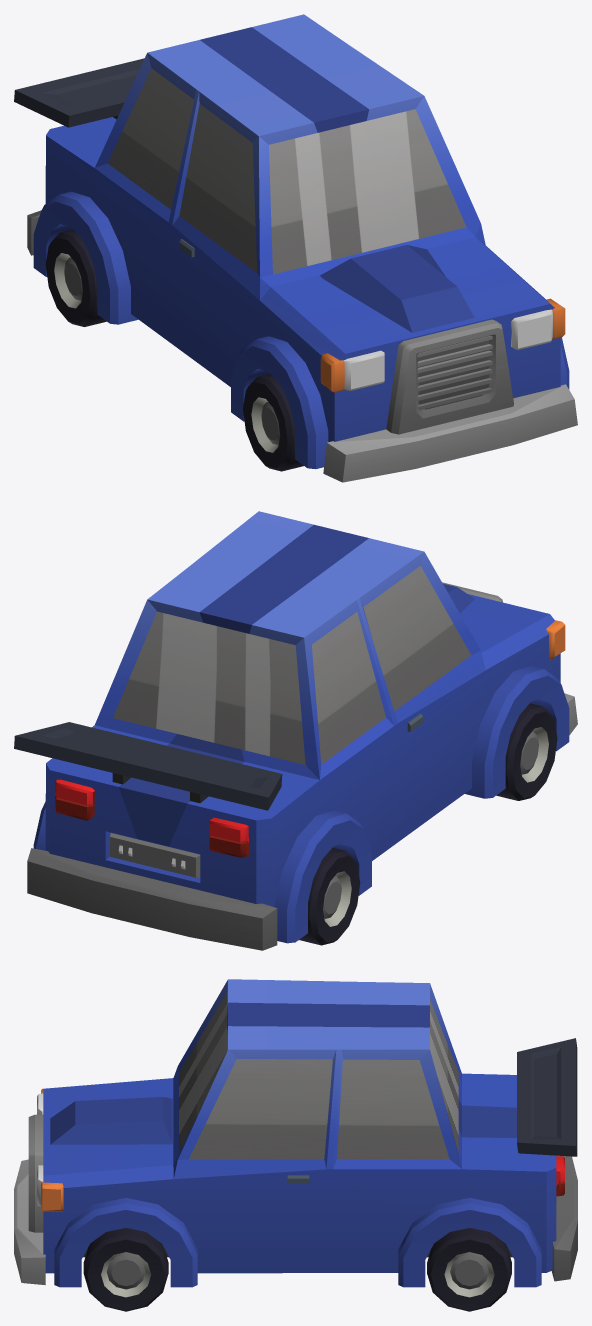
Rendered from SportCar_13.fbx.
The picture shows the model from 3 angles, top to bottom: view 1: azimuth 30°, elevation 25°; view 2: azimuth 150°, elevation 25°; view 3: azimuth 270°, elevation 25°; orthographic projection. The views are drawn at different scales.
Parts seen in each view (by area): view 1: SportCar_13, Wheel_fr, Wheel_br; view 2: SportCar_13, Wheel_br, Wheel_fr; view 3: SportCar_13, Wheel_fl, Wheel_bl.
Boxes of the visible parts, box(x1,y1,x2,y2) form: SportCar_13: box(14, 14, 577, 482); Wheel_fr: box(243, 373, 303, 471); Wheel_br: box(45, 229, 106, 326); SportCar_13: box(14, 511, 577, 950); Wheel_br: box(299, 847, 360, 945); Wheel_fr: box(496, 703, 557, 800); SportCar_13: box(14, 979, 577, 1287); Wheel_fl: box(83, 1228, 168, 1311); Wheel_bl: box(427, 1228, 511, 1311).
Bounding box in the file's own units: 112 × 110 × 233.
